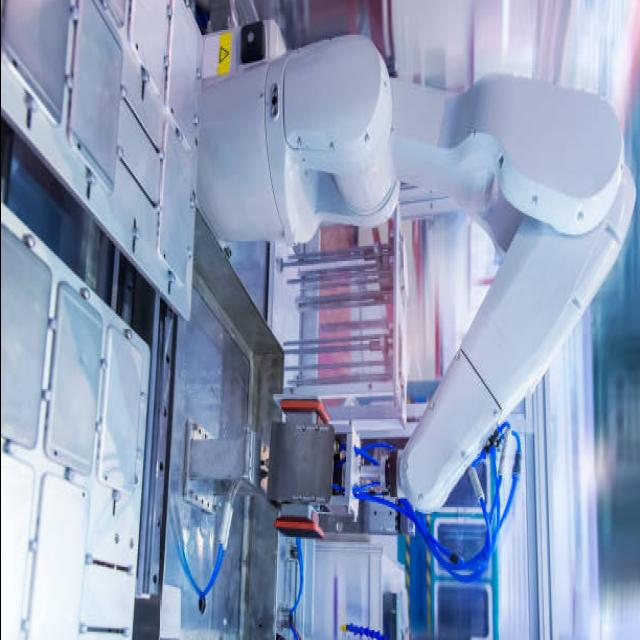Robotic-arm: (182, 28, 635, 558)
